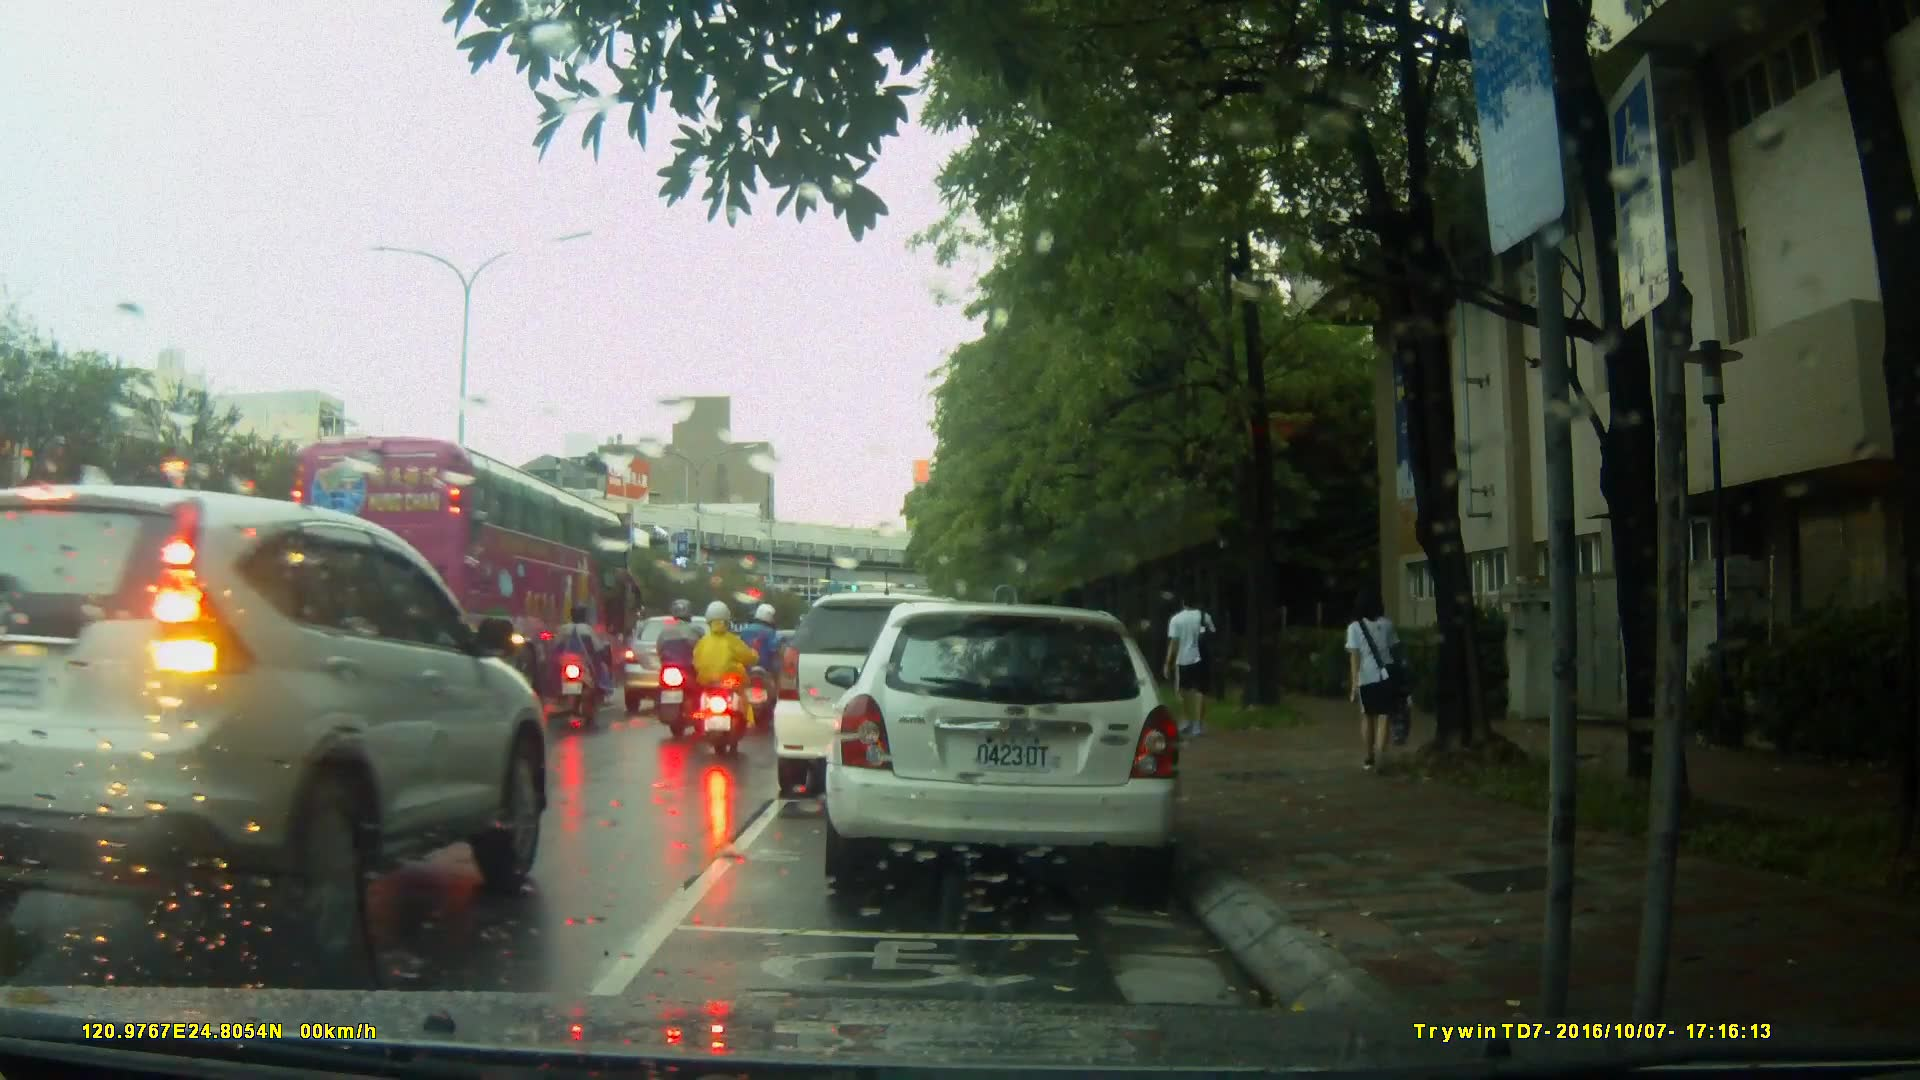pedestrian: (1338, 580, 1424, 787), (1159, 586, 1213, 736)
rider: (688, 600, 749, 759), (649, 593, 703, 738), (553, 605, 612, 723), (736, 605, 793, 724)
vehicle: (1, 479, 550, 982), (835, 594, 1194, 898), (277, 436, 638, 706), (776, 590, 1026, 784), (620, 615, 739, 707)
